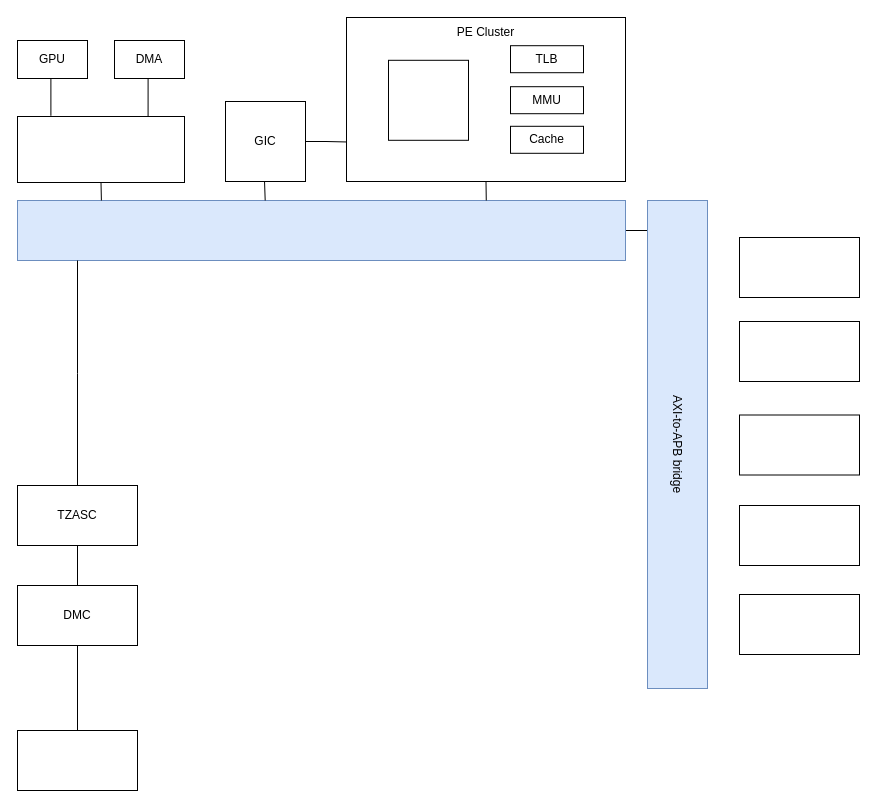
This 877x808 diagram has some shape labels left out. Each missing label, with the box of its shape:
AXI Bus: (16, 200, 626, 260)
Memory: (16, 730, 138, 790)
PE: (388, 59, 468, 140)
SMMU: (16, 116, 184, 182)
